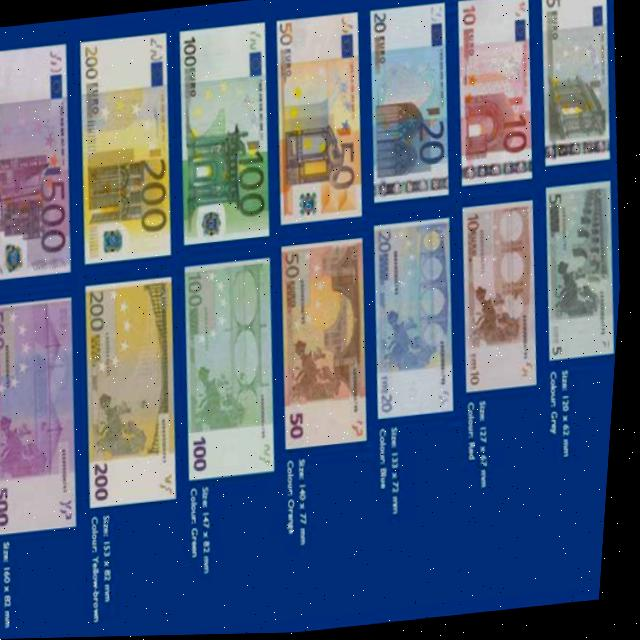banknote: (67, 264, 207, 546), (163, 245, 300, 513), (56, 20, 194, 276), (256, 223, 393, 480), (155, 14, 288, 262), (253, 10, 385, 237), (356, 207, 475, 447), (0, 288, 102, 557), (0, 26, 97, 294), (445, 188, 560, 411), (349, 1, 468, 215), (443, 0, 551, 198), (532, 178, 630, 372), (524, 0, 623, 171), (26, 172, 76, 263), (129, 155, 180, 239), (225, 149, 277, 225), (493, 112, 536, 177), (410, 117, 451, 170), (323, 141, 359, 197)
